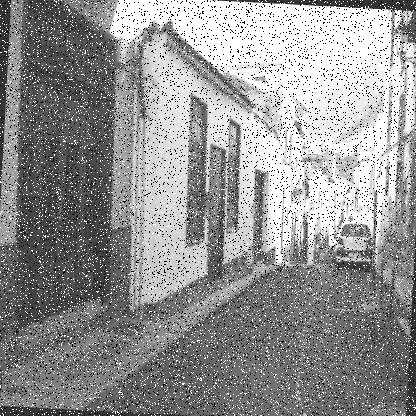Car: (335, 218, 372, 268)
